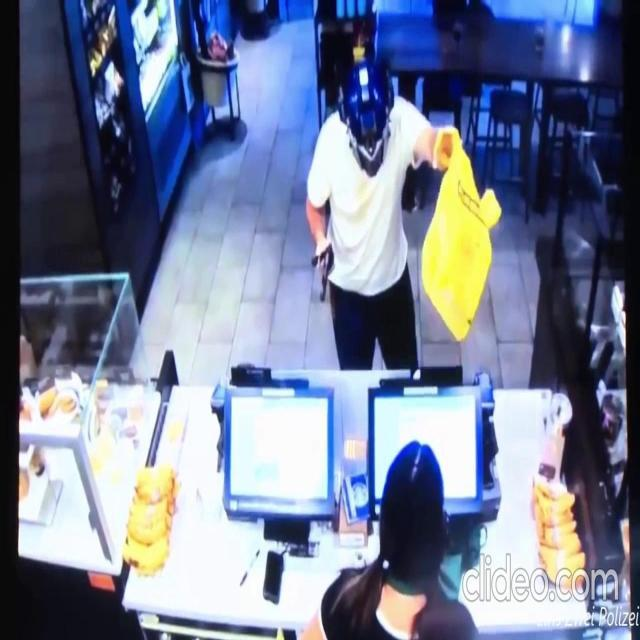pistol: (317, 241, 337, 305)
